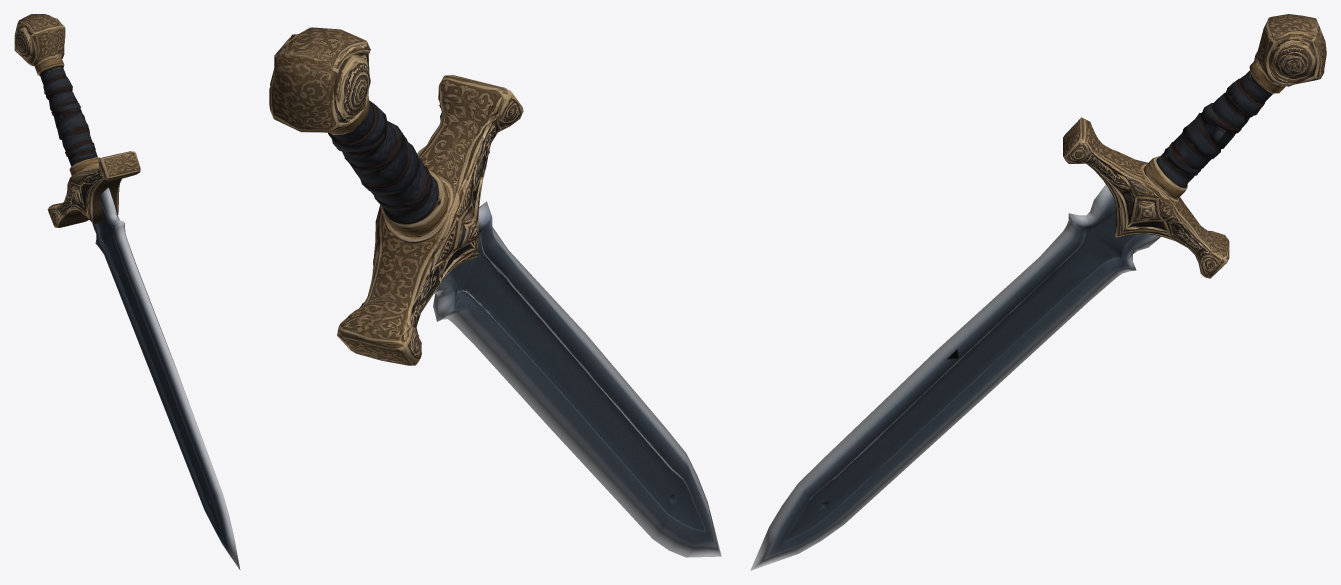
The model's file is sword.glb.
3 renders of one model, left to right at view 1: azimuth 30°, elevation 25°; view 2: azimuth 150°, elevation 25°; view 3: azimuth 270°, elevation 25°, orthographic. The views are drawn at different scales.
Parts seen in each view (by area): view 1: tripo_node_f2300a52-4a8f-40a5-9f2c-ddaf65bdf788; view 2: tripo_node_f2300a52-4a8f-40a5-9f2c-ddaf65bdf788; view 3: tripo_node_f2300a52-4a8f-40a5-9f2c-ddaf65bdf788.
Boxes of the visible parts, x1,y1,x2,y2 form: tripo_node_f2300a52-4a8f-40a5-9f2c-ddaf65bdf788: [14, 14, 240, 569]; tripo_node_f2300a52-4a8f-40a5-9f2c-ddaf65bdf788: [269, 27, 721, 557]; tripo_node_f2300a52-4a8f-40a5-9f2c-ddaf65bdf788: [750, 14, 1326, 570].
Size of the model in its own units: 0.1191 by 0.998 by 0.9473.
Materials: 1 (1 with a texture image).
